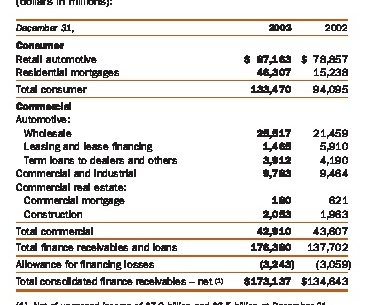table: (0, 0, 370, 305)
